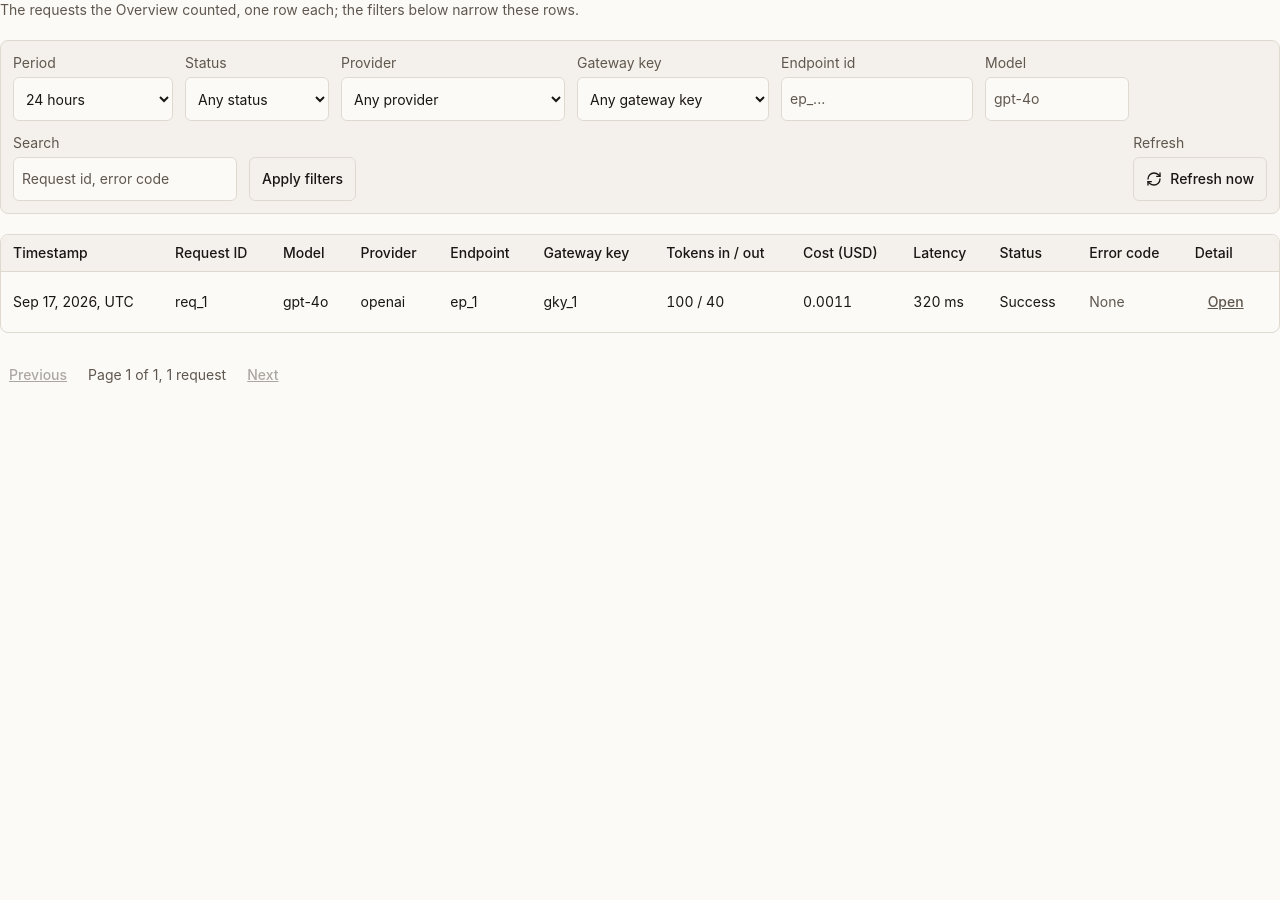
the records table and its drawer › says capture is off instead of showing an empty body area
expect the table is shown: met, box x1=1 y1=235 x2=1279 y2=332
Click the button with aria-label "Open request" at (1226, 302), box x1=1195 y1=280 x2=1257 y2=324
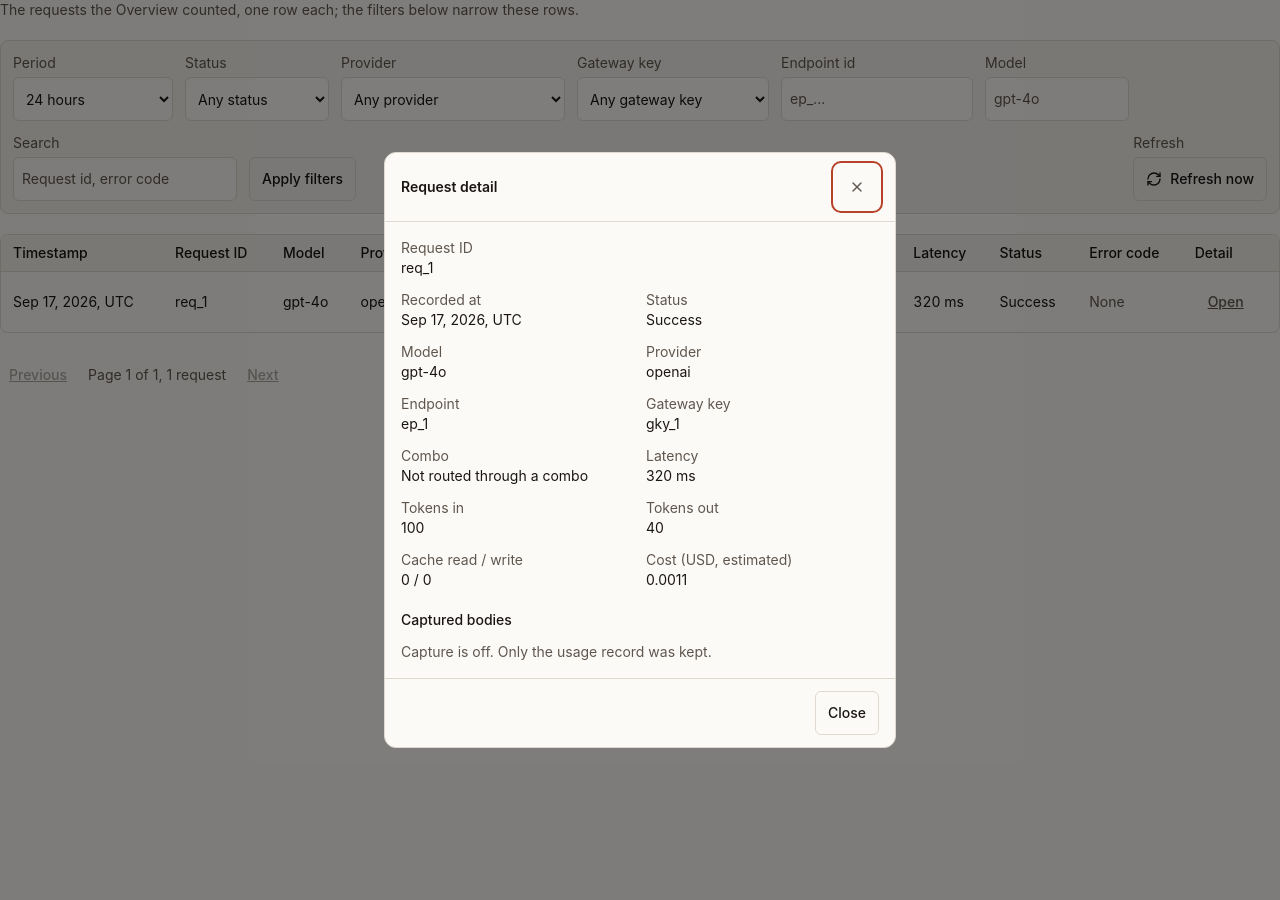
expect the text "Capture is off. Only the usage record was kept." is shown: met, box x1=401 y1=643 x2=712 y2=660
